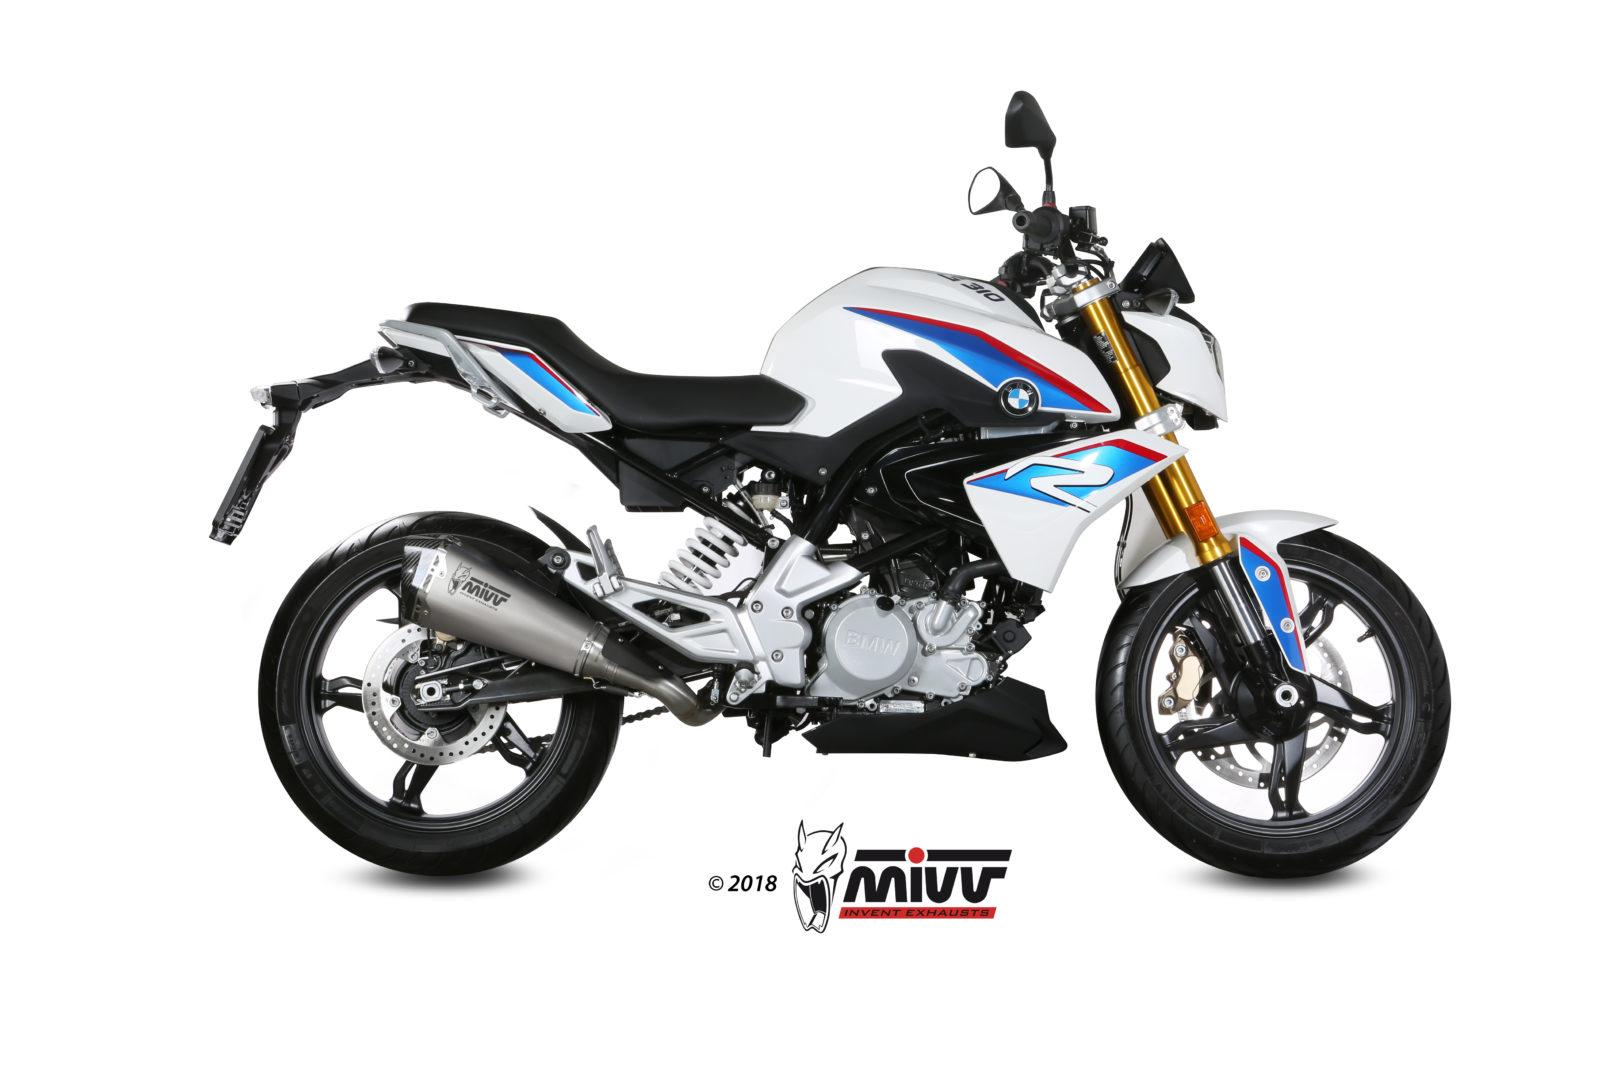engine-chasis: (722, 408, 1068, 763), (657, 516, 748, 596), (722, 479, 764, 527)
exhaust: (399, 532, 727, 728)
frontside: (851, 277, 1339, 736)
handlebar: (967, 89, 1116, 309), (1110, 237, 1196, 314)
motorbike: (211, 90, 1452, 878)
rearside: (208, 319, 816, 708), (413, 653, 592, 711)
seat: (399, 302, 805, 432)
tank: (719, 266, 1121, 487)
watermark: (698, 817, 1018, 940)
wheel: (257, 510, 625, 876), (1094, 528, 1452, 879), (1113, 491, 1134, 601), (473, 733, 556, 754), (622, 704, 670, 727)
